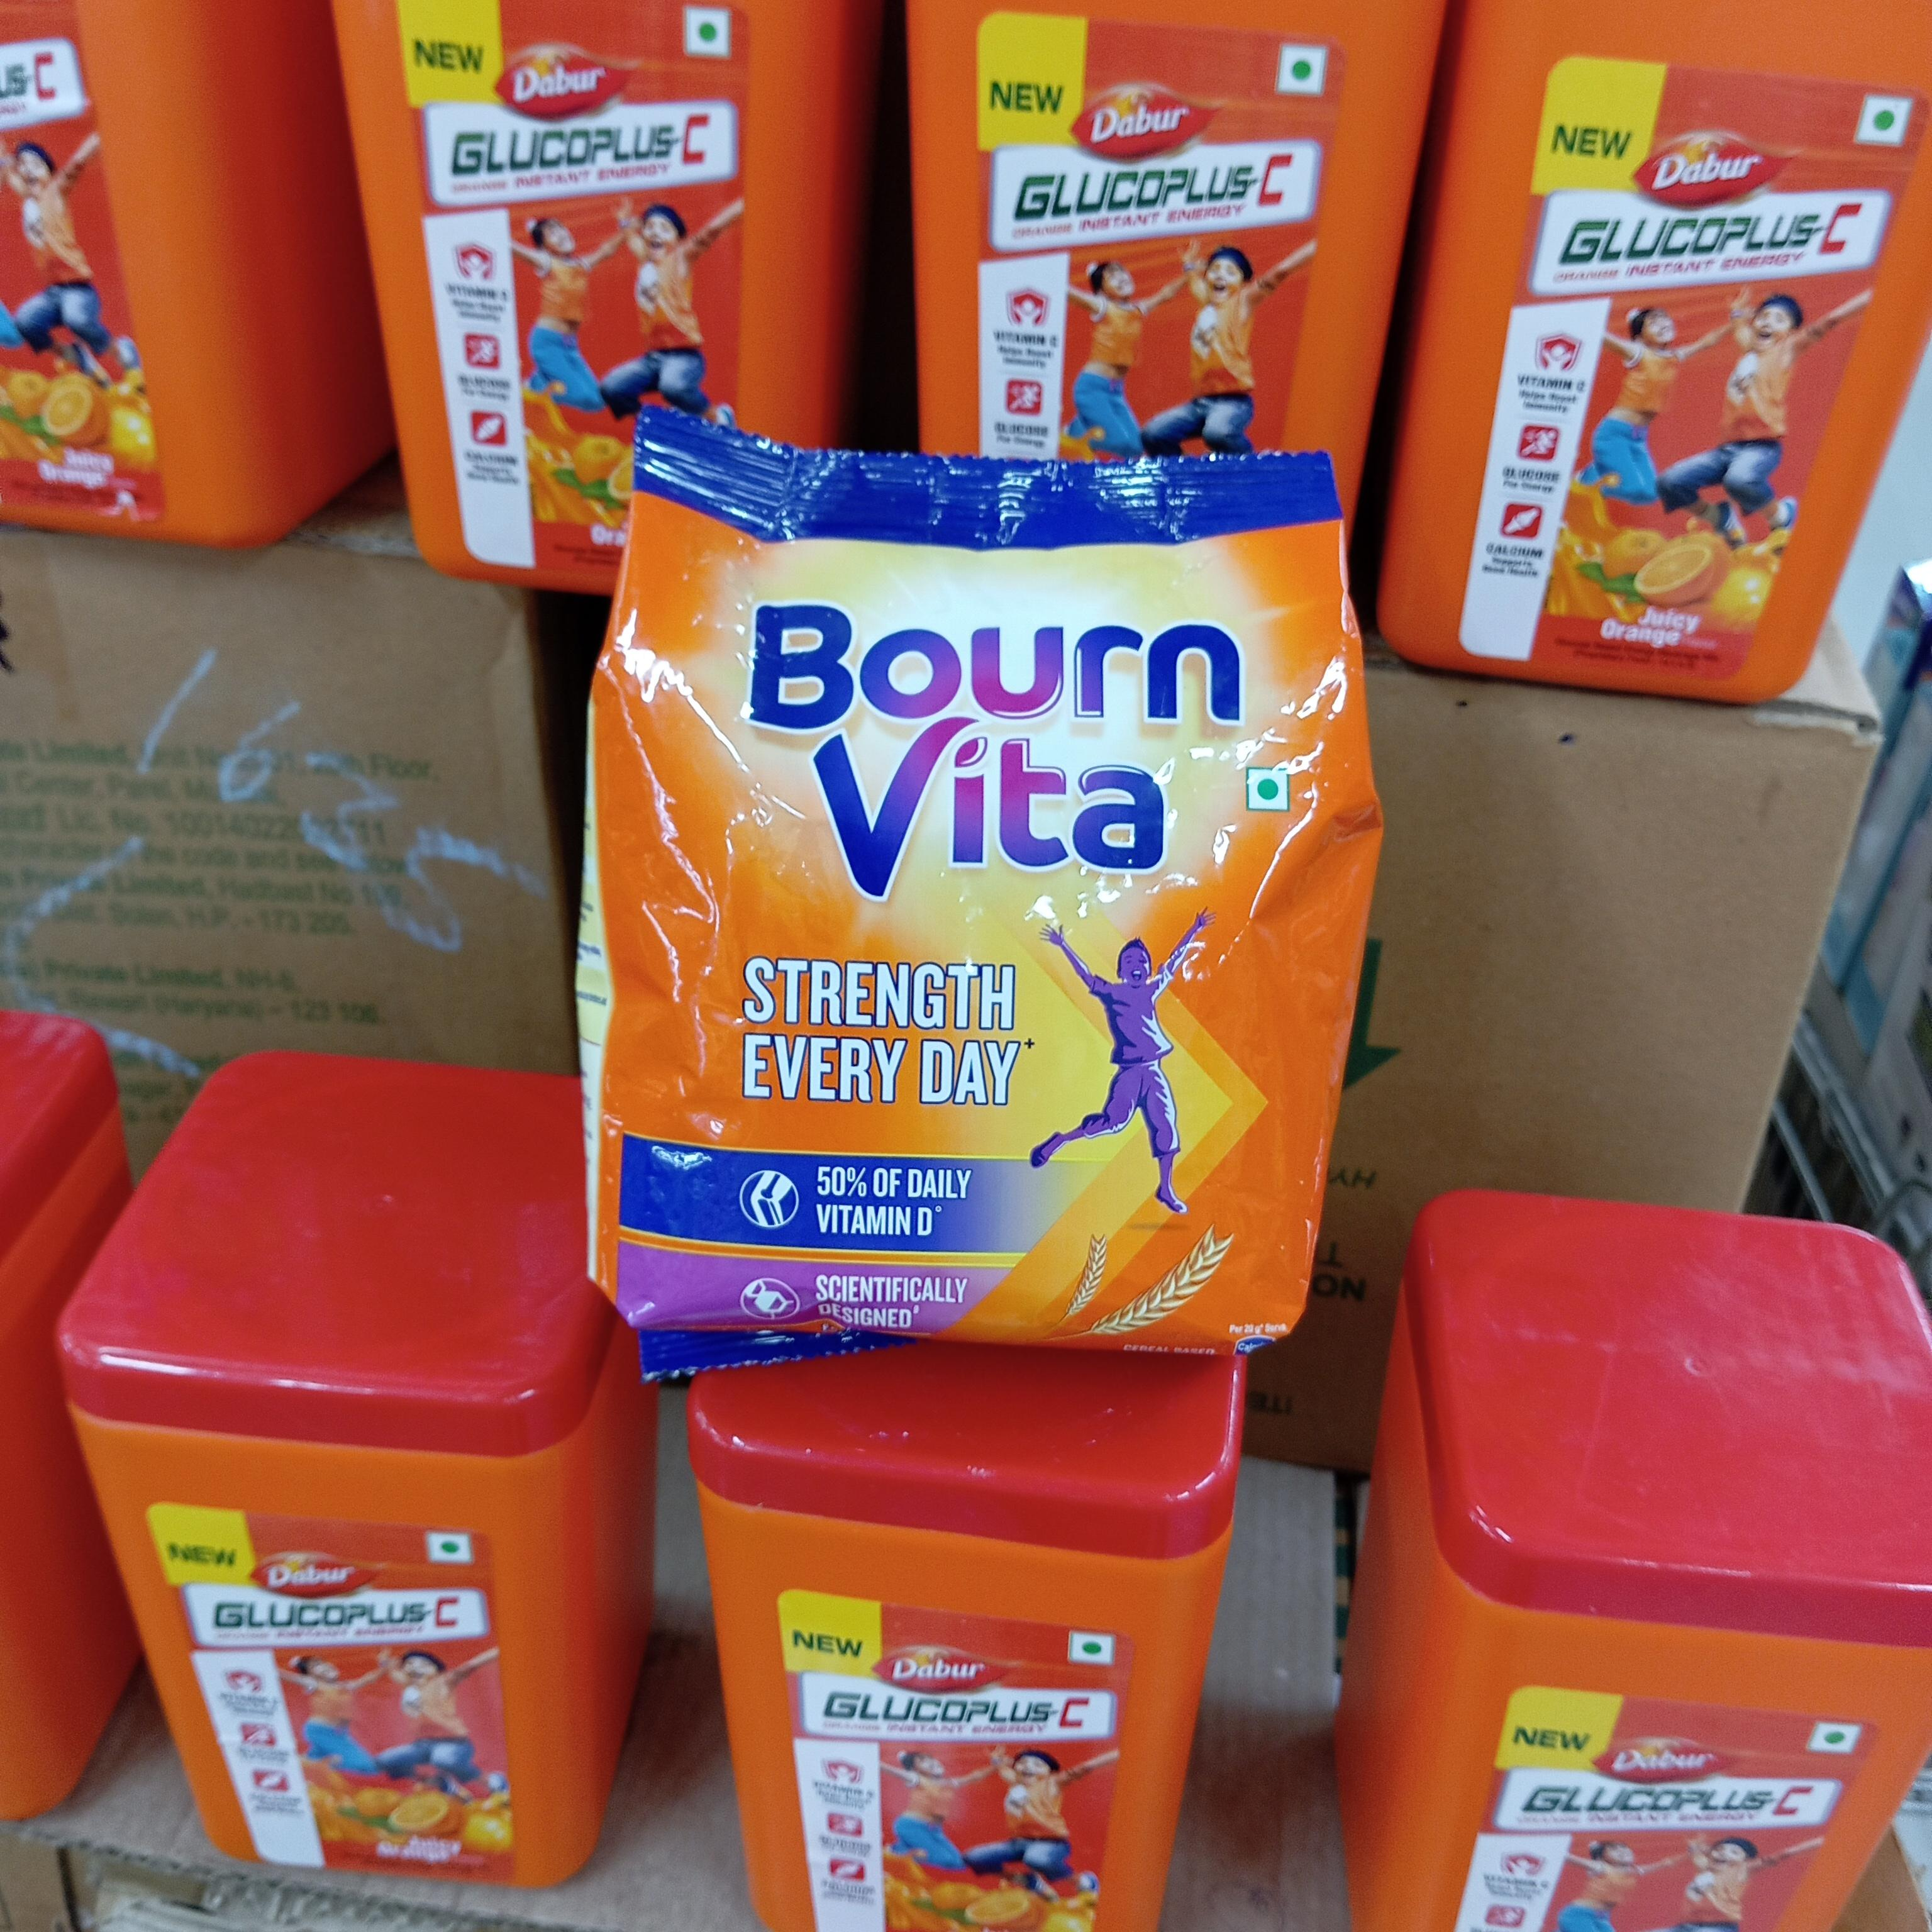BOURN_VITA_500_G_POUCH: (603, 403, 1302, 1376)
